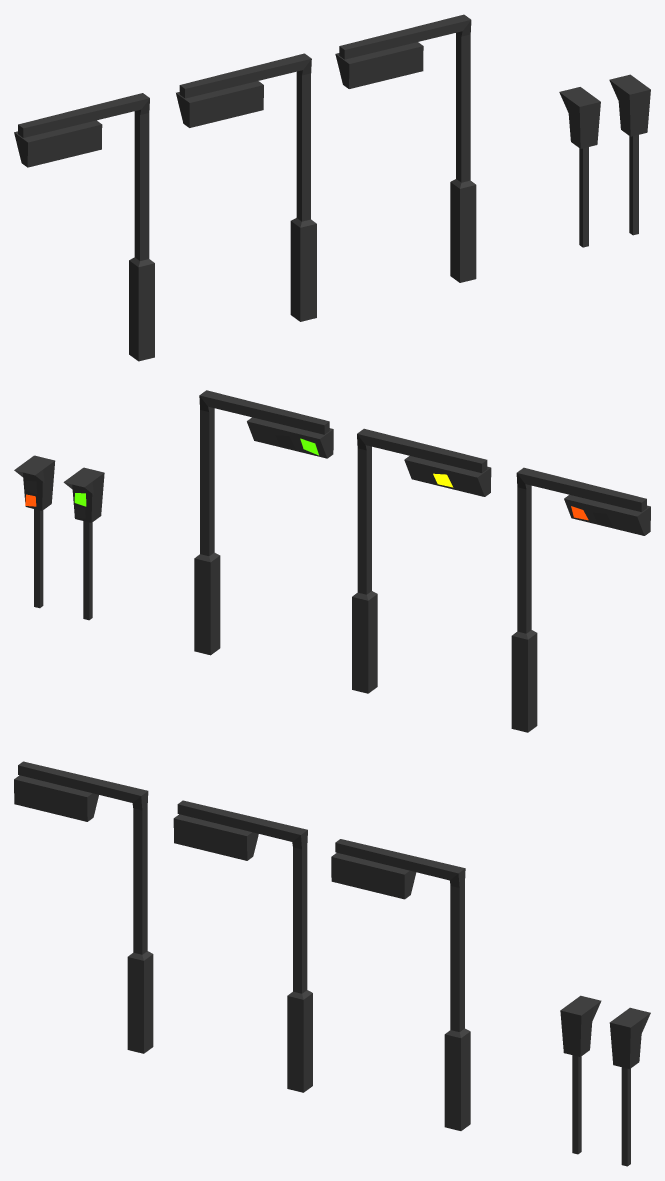
File: traffic lights .fbx
3 views of the same model, one above another, from view 1: azimuth 30°, elevation 25°; view 2: azimuth 150°, elevation 25°; view 3: azimuth 330°, elevation 25° (orthographic).
Visible parts, largest first — view 1: Cube.004, Cube.002, Cube.003, Cube.001, Cube; view 2: Cube.002, Cube.004, Cube.003, Cube, Cube.001; view 3: Cube.002, Cube.004, Cube.003, Cube.001, Cube.
Boxes of the visible parts, bbox=[...] form: Cube.004: bbox=[14, 93, 154, 361]; Cube.002: bbox=[335, 14, 476, 282]; Cube.003: bbox=[176, 53, 316, 321]; Cube.001: bbox=[609, 74, 650, 235]; Cube: bbox=[559, 87, 600, 247]; Cube.002: bbox=[194, 390, 333, 655]; Cube.004: bbox=[511, 467, 650, 732]; Cube.003: bbox=[352, 428, 491, 693]; Cube: bbox=[63, 467, 104, 620]; Cube.001: bbox=[14, 455, 55, 608]; Cube.002: bbox=[331, 839, 470, 1130]; Cube.004: bbox=[14, 761, 153, 1053]; Cube.003: bbox=[173, 800, 312, 1092]; Cube.001: bbox=[609, 1007, 650, 1166]; Cube: bbox=[560, 995, 601, 1154].
Bounding box in the file's own units: 2055 × 816 × 122.
